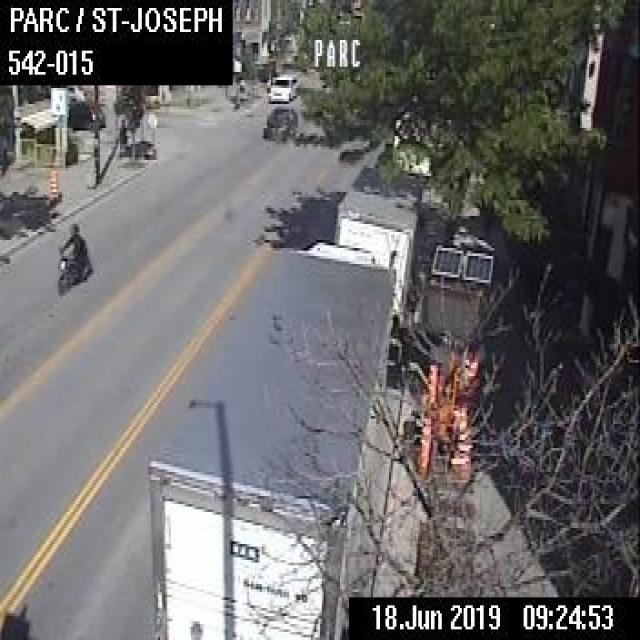construction: (411, 242, 493, 420), (451, 416, 473, 486), (415, 418, 433, 480), (422, 360, 434, 413), (47, 168, 58, 200)
vehicle: (142, 235, 395, 638), (330, 163, 420, 315), (54, 218, 91, 290), (260, 105, 297, 140), (66, 98, 104, 128), (268, 71, 298, 101), (65, 82, 87, 100)
